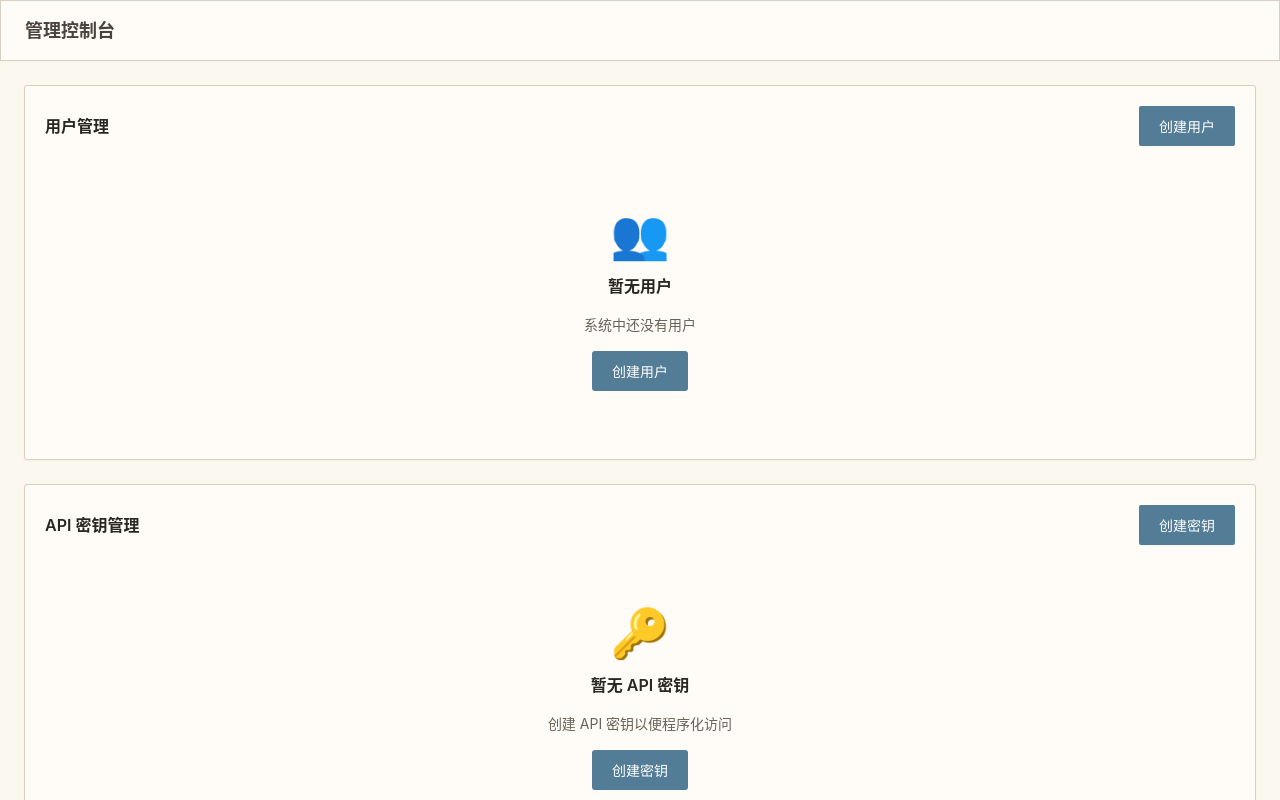
Test: GA: AdminTab Error/Loading/Empty States › shows created API key in full for one-time copy
This screenshot has width=1280, height=800.
Click the button with test id "create-api-key-btn": [1187, 525] box [1139,505,1235,545]
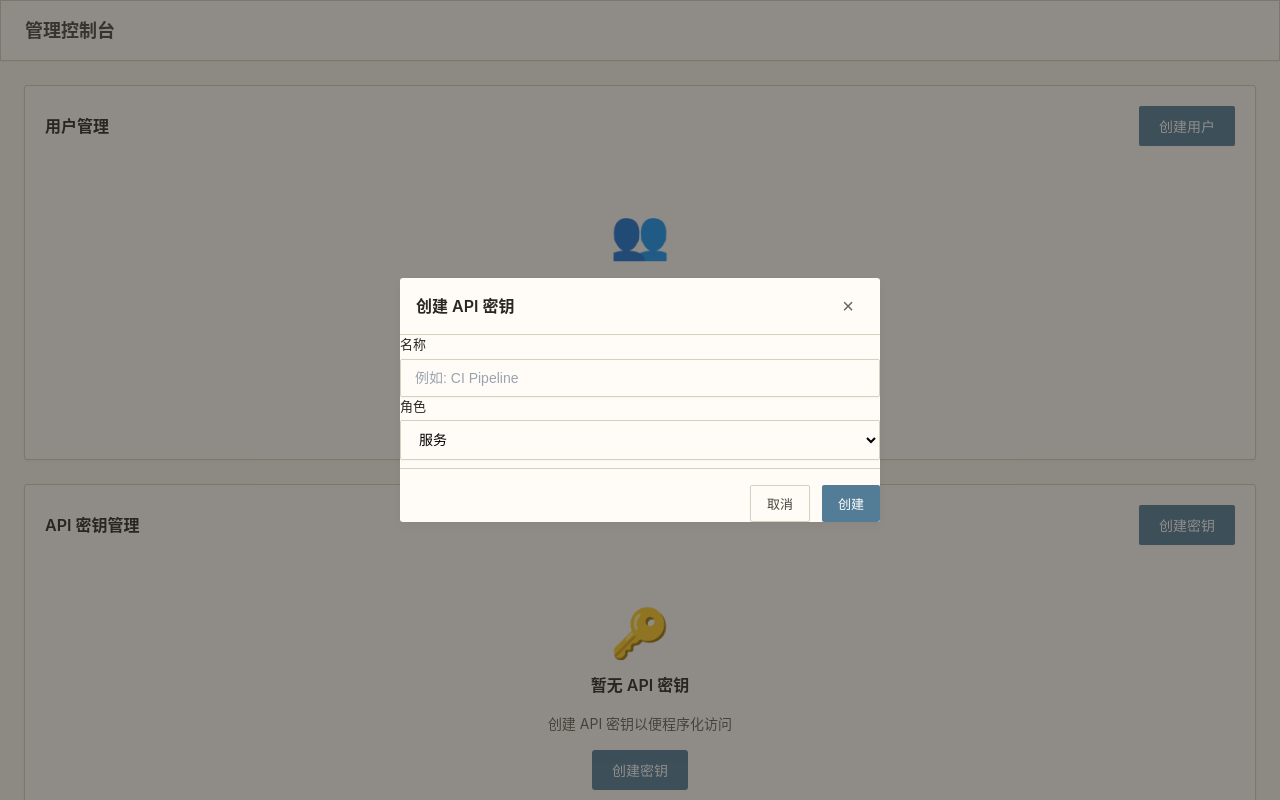
Now the field with test id "api-key-name-input" is shown
In the field with test id "api-key-name-input": [640, 378] box [400,358,880,396], type "New Key"
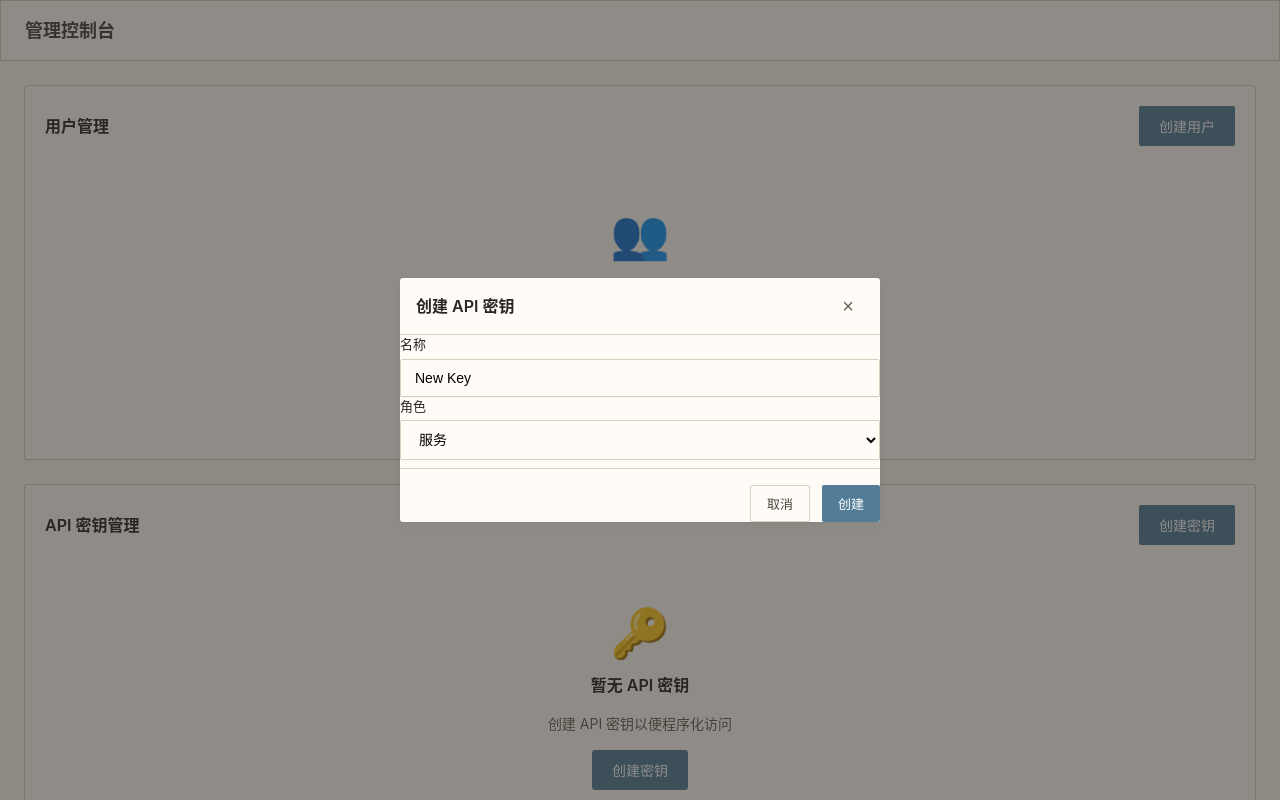
Click the button with test id "api-key-create-submit": [851, 504] box [822,485,880,522]
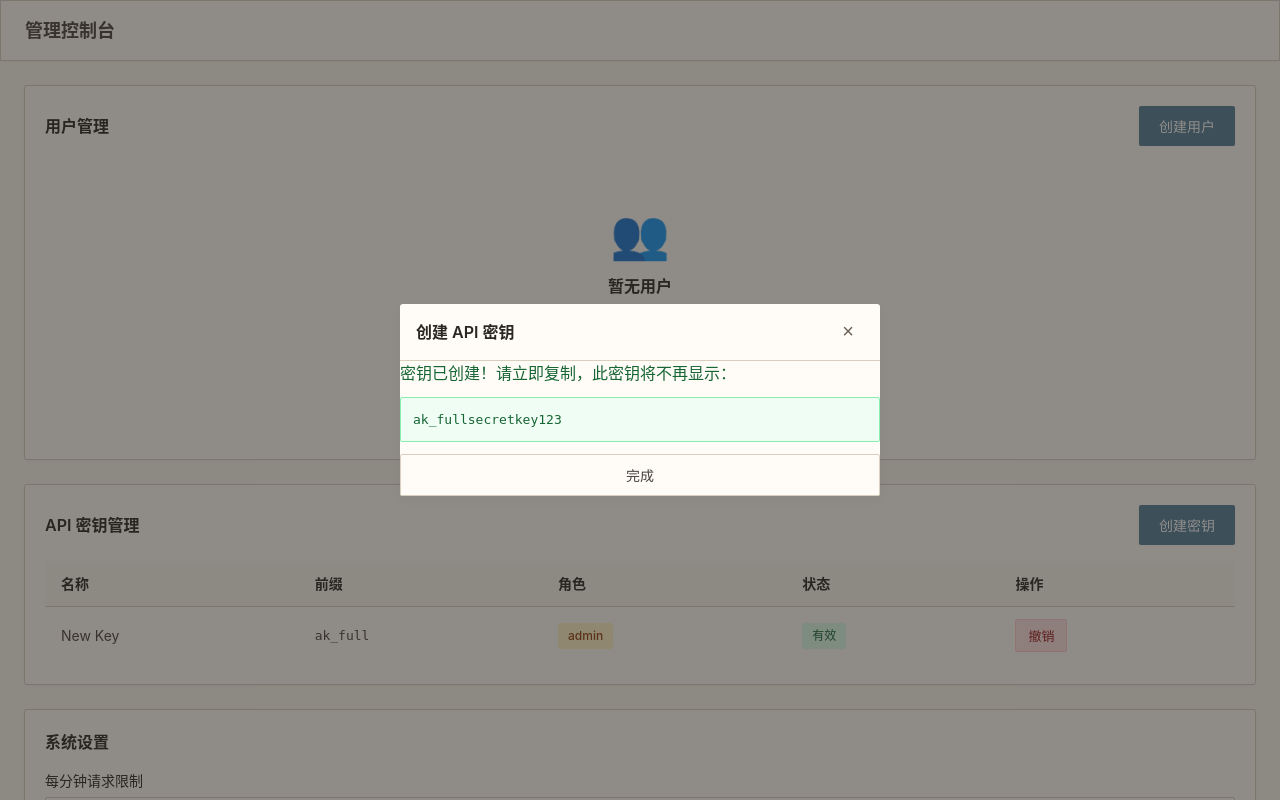
Now the text "ak_fullsecretkey123" is shown, box [400,397,880,442]
